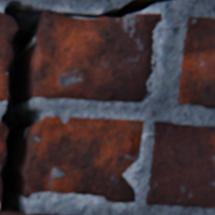brick: (145, 122, 214, 208), (177, 18, 214, 108), (0, 211, 29, 214)
broken_brick: (31, 10, 160, 102), (21, 117, 142, 202), (0, 13, 17, 102), (0, 122, 8, 170), (0, 179, 2, 202)
crack: (0, 2, 42, 212), (65, 0, 174, 19)
